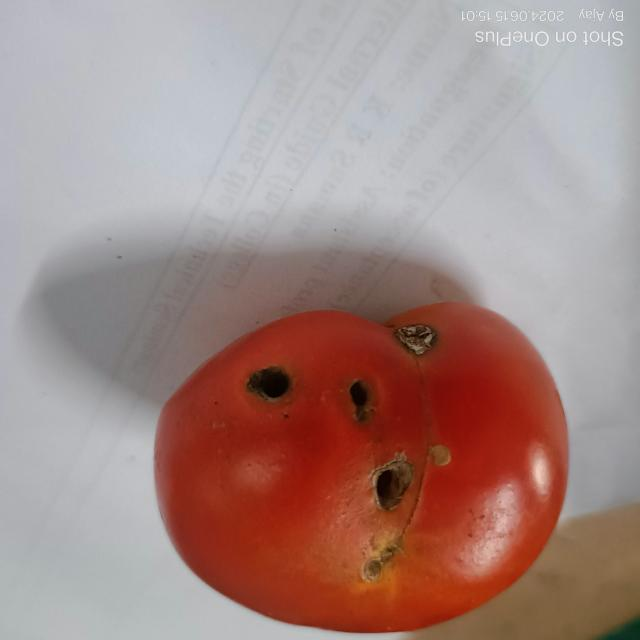fruitworm_bore: (241, 362, 299, 410), (370, 456, 410, 512), (342, 372, 376, 431)
